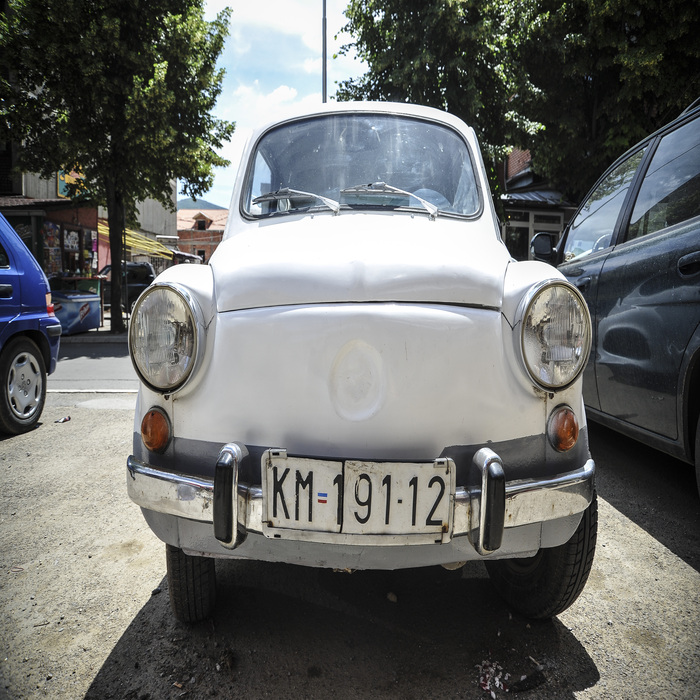n: (257, 441, 461, 559)
